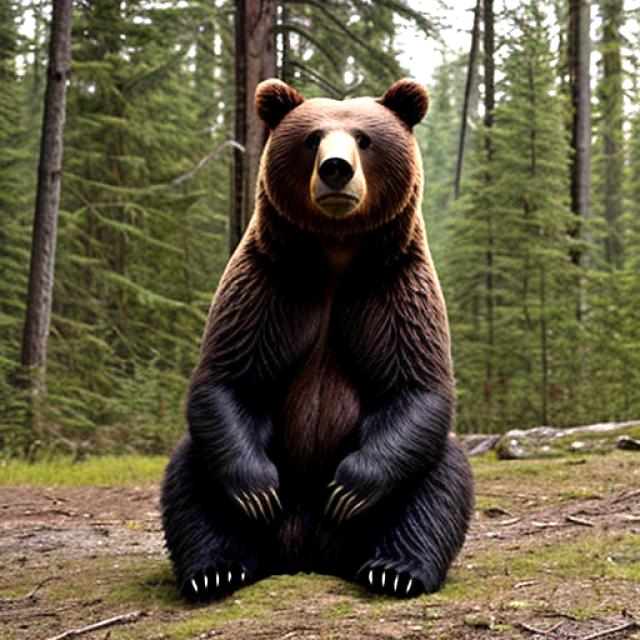bear: (224, 67, 490, 617)
